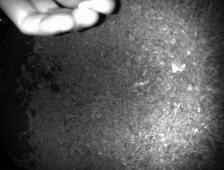corn: (78, 1, 97, 10), (178, 62, 187, 74), (171, 60, 178, 73)
